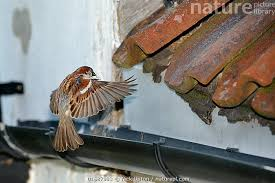hsparrow: (47, 63, 140, 155)
